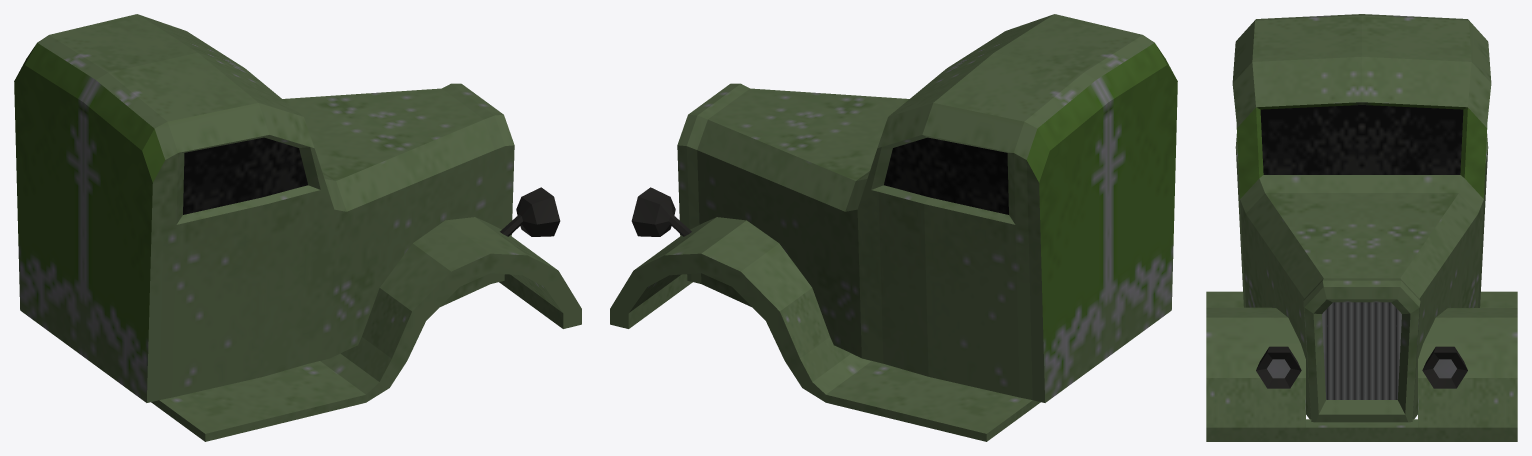
File: TruckFront.fbx
3 renders of one model, left to right at view 1: azimuth 30°, elevation 25°; view 2: azimuth 150°, elevation 25°; view 3: azimuth 270°, elevation 25°, orthographic. The views are drawn at different scales.
Parts seen in each view (by area): view 1: Cube; view 2: Cube; view 3: Cube.
Part boxes in pixels (<box>): Cube: <box>14,14,581,441</box>; Cube: <box>610,14,1177,441</box>; Cube: <box>1206,14,1517,441</box>.
Bounding box in the file's own units: 167 × 118 × 119.
